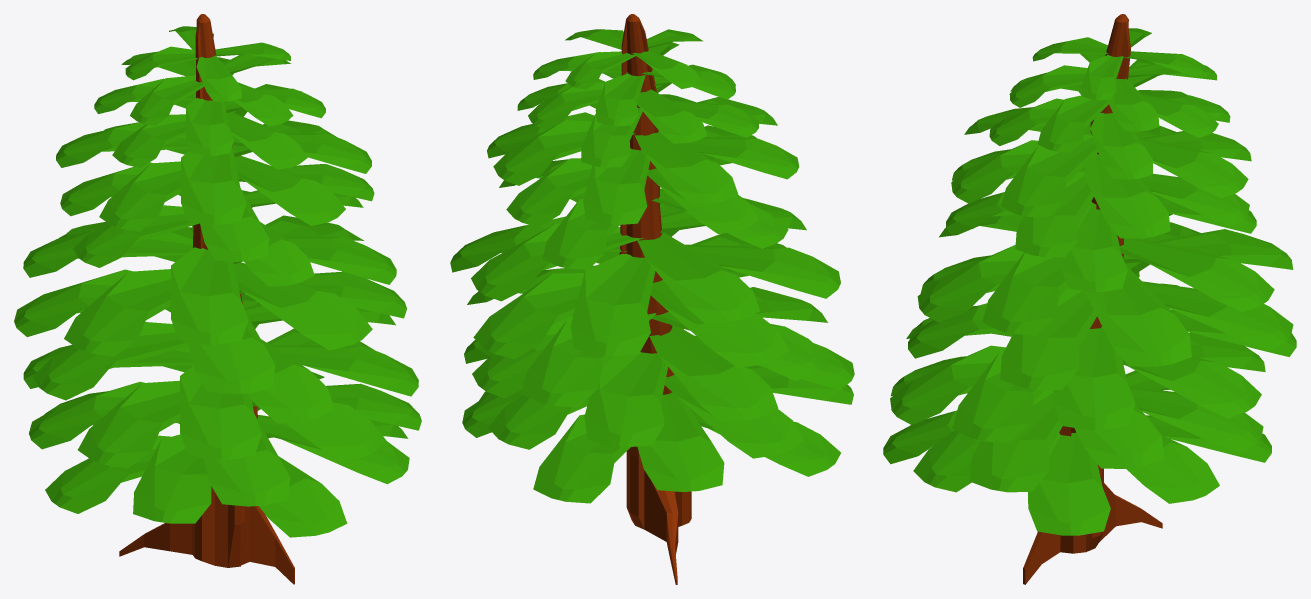
Rendered from PineTree.fbx.
The picture shows the model from 3 angles, left to right: view 1: azimuth 30°, elevation 25°; view 2: azimuth 150°, elevation 25°; view 3: azimuth 270°, elevation 25°; orthographic projection.
Parts seen in each view (by area): view 1: Cube.008, Cylinder.042; view 2: Cube.008, Cylinder.042; view 3: Cube.008, Cylinder.042.
Boxes of the visible parts, x1=… form: Cube.008: x1=14, y1=26, x2=421, y2=537; Cylinder.042: x1=119, y1=14, x2=294, y2=584; Cube.008: x1=450, y1=29, x2=854, y2=503; Cylinder.042: x1=619, y1=14, x2=691, y2=584; Cube.008: x1=883, y1=28, x2=1296, y2=535; Cylinder.042: x1=1023, y1=14, x2=1162, y2=584.
Size of the model in its own units: 21353 by 32419 by 22144.
